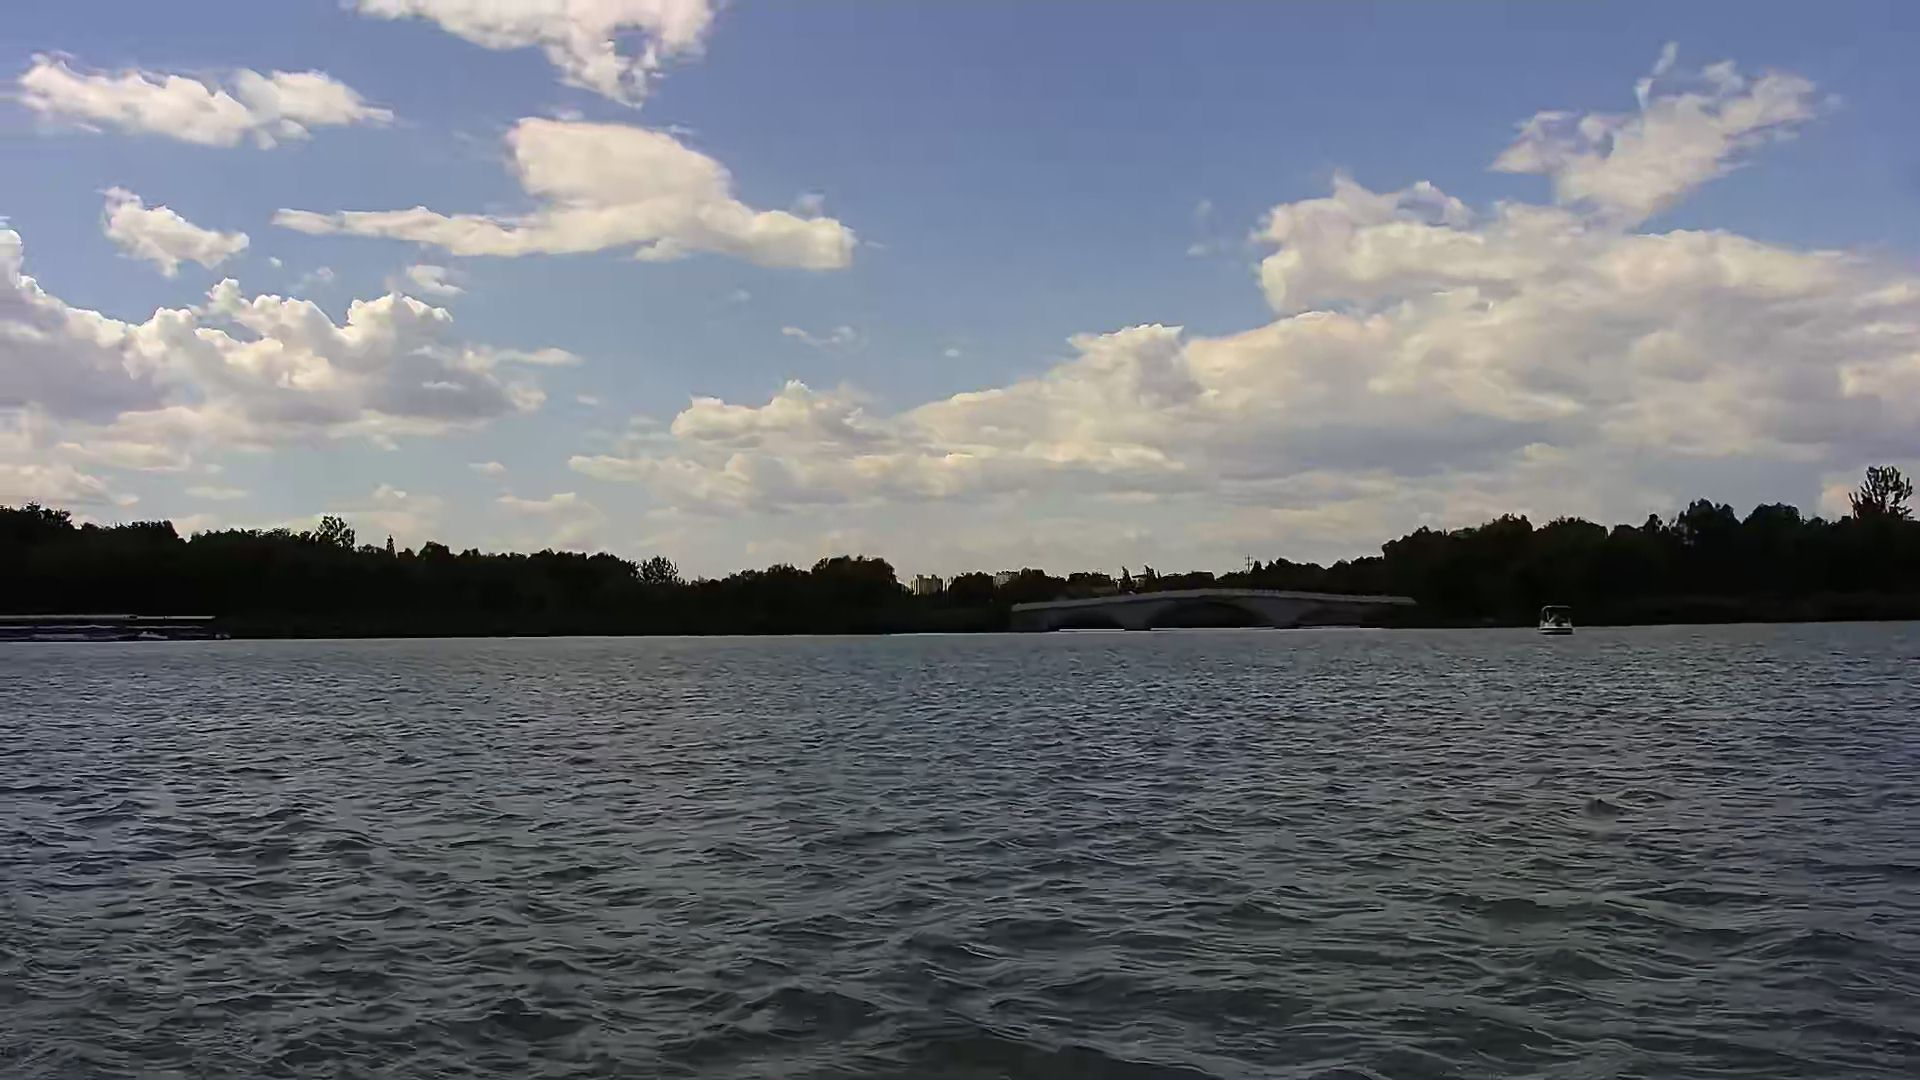boat: (1532, 597, 1585, 638)
bridge: (1001, 583, 1425, 641)
